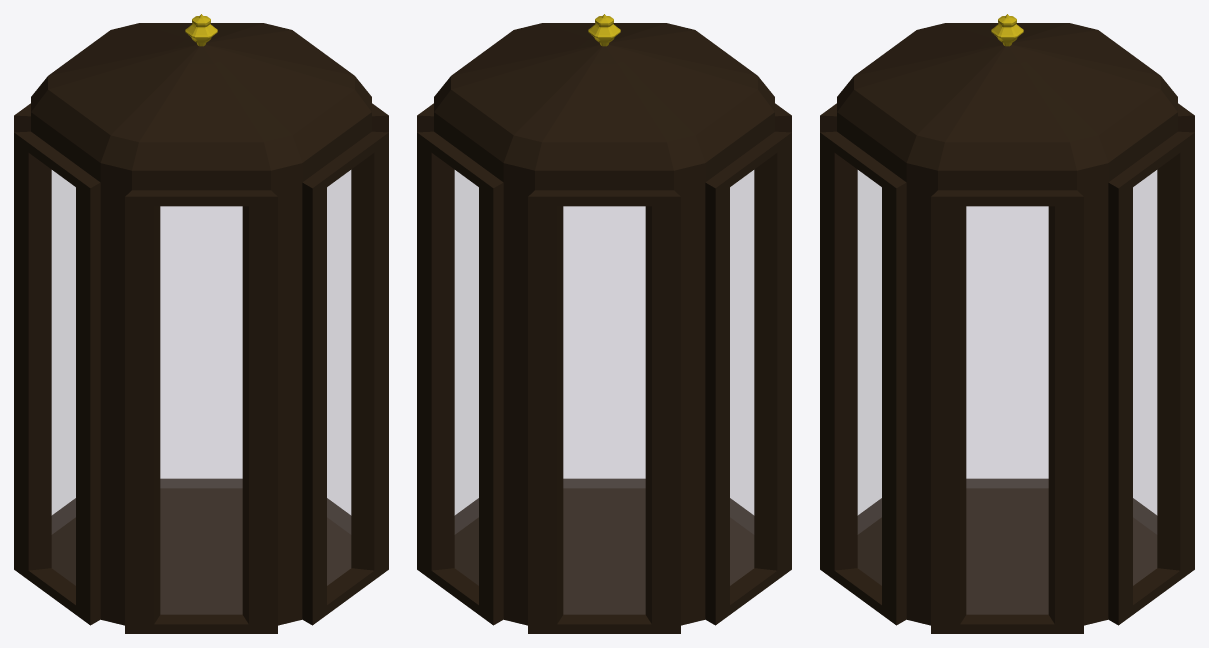
File: lights.fbx
The picture shows the model from 3 angles, left to right: view 1: azimuth 30°, elevation 25°; view 2: azimuth 150°, elevation 25°; view 3: azimuth 270°, elevation 25°; orthographic projection.
Visible parts, largest first — view 1: Chain Lantern; view 2: Chain Lantern; view 3: Chain Lantern.
Part boxes in pixels (x1,y1,x2,y2): Chain Lantern: [14, 14, 388, 633]; Chain Lantern: [417, 14, 791, 633]; Chain Lantern: [820, 14, 1194, 633].
Size of the model in its own units: 20.01 by 35.04 by 21.76.
